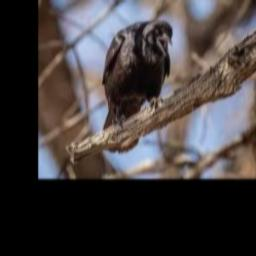Crow: (101, 19, 174, 153)
